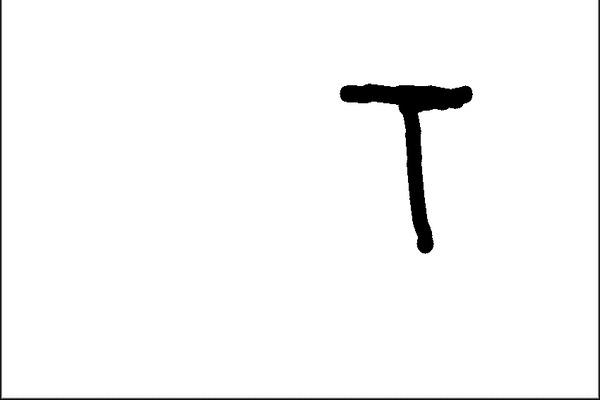T: (336, 79, 487, 256)
